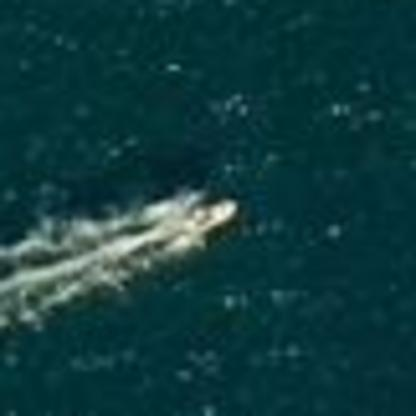ship: (171, 193, 254, 243)
